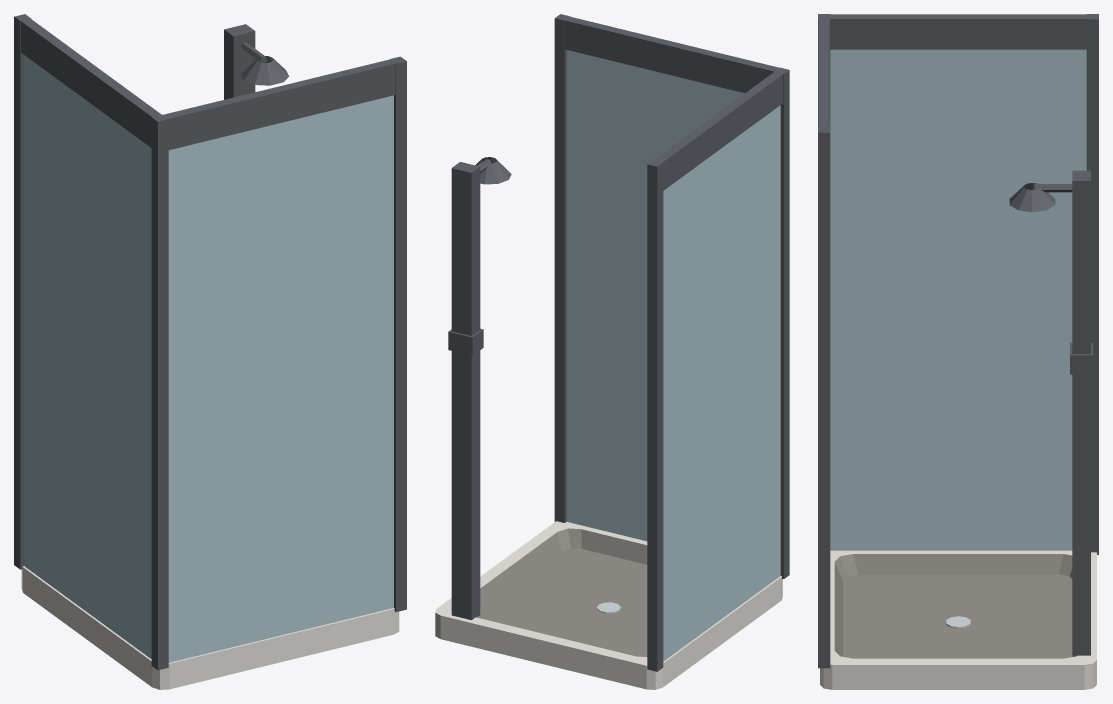
File: FN_Shower_Enclosure.obj
The picture shows the model from 3 angles, left to right: view 1: azimuth 30°, elevation 25°; view 2: azimuth 150°, elevation 25°; view 3: azimuth 270°, elevation 25°; orthographic projection. The views are drawn at different scales.
Parts seen in each view (by area): view 1: FN_Shower_Enclosure; view 2: FN_Shower_Enclosure; view 3: FN_Shower_Enclosure.
Part boxes in pixels (x1,y1,x2,y2): FN_Shower_Enclosure: [14, 14, 406, 689]; FN_Shower_Enclosure: [435, 14, 789, 689]; FN_Shower_Enclosure: [818, 14, 1098, 689].
Bounding box in the file's own units: 0.912 × 2 × 0.912.
Materials: 2 (1 with a texture image).
